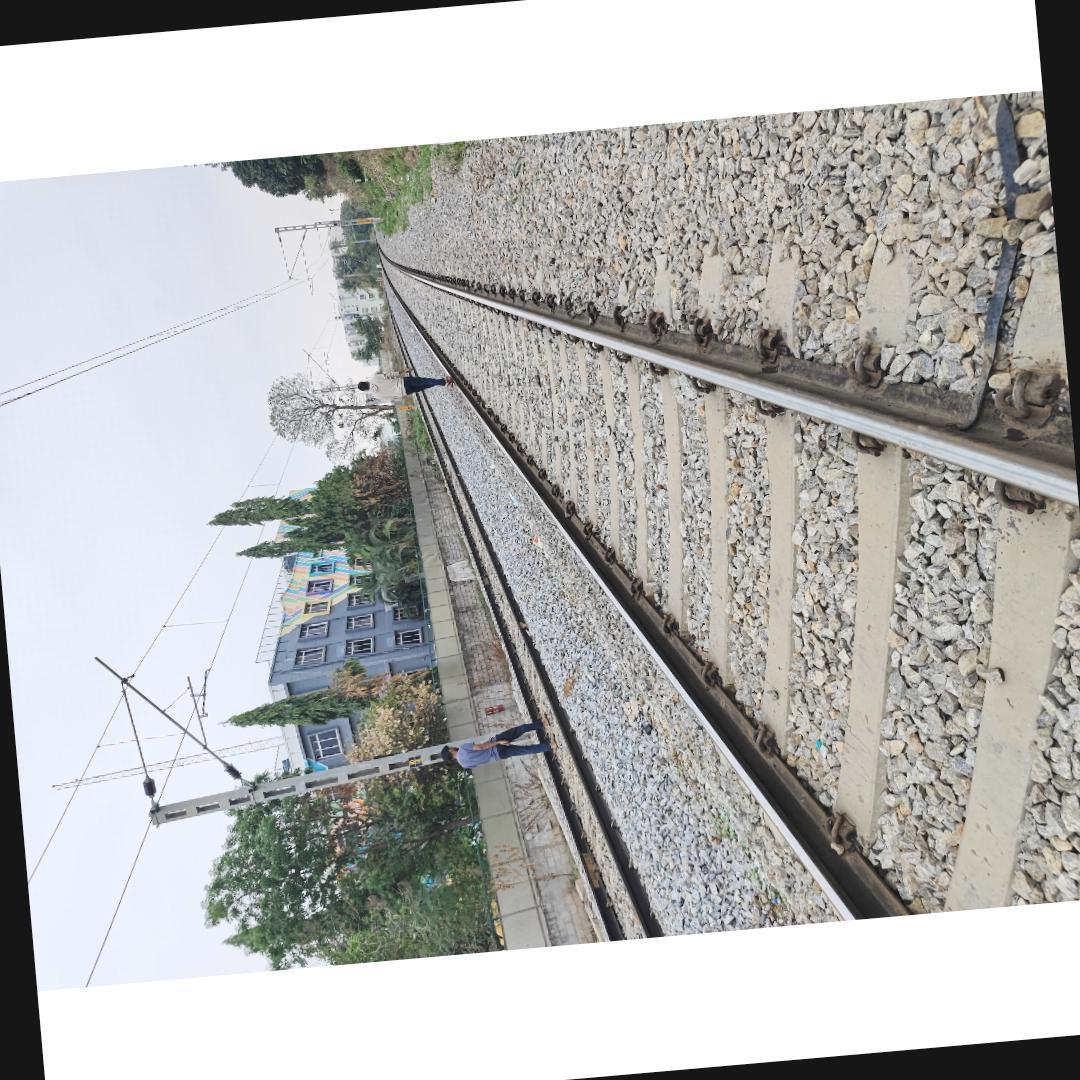standing: (422, 717, 558, 779), (437, 718, 558, 772), (355, 362, 455, 407)
track: (356, 216, 1080, 921), (372, 265, 670, 941)
